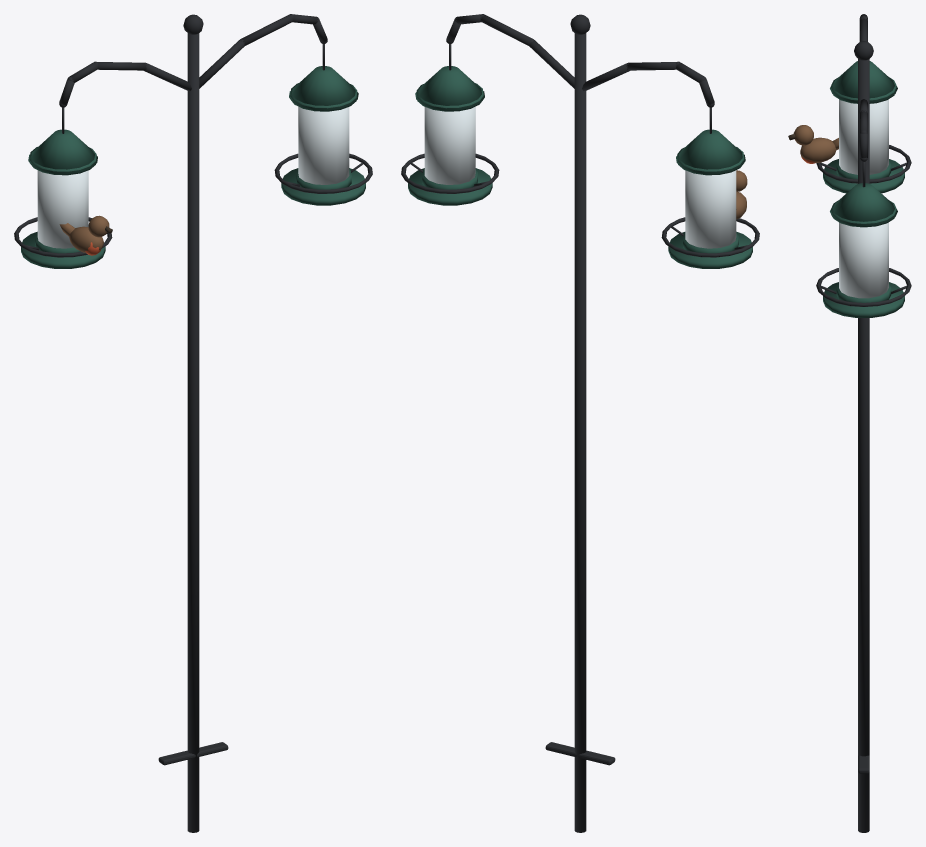
Rendered from birdFeederPole.glb.
The picture shows the model from 3 angles, left to right: view 1: azimuth 30°, elevation 25°; view 2: azimuth 150°, elevation 25°; view 3: azimuth 270°, elevation 25°; orthographic projection. The views are drawn at different scales.
Parts seen in each view (by area): view 1: feeders; view 2: feeders; view 3: feeders.
Boxes of the visible parts, x1,y1,x2,y2 form: feeders: (14,14,372,832); feeders: (401,14,759,832); feeders: (788,14,911,832).
Bounding box in the file's own units: 0.85 × 1.91 × 0.2711.
